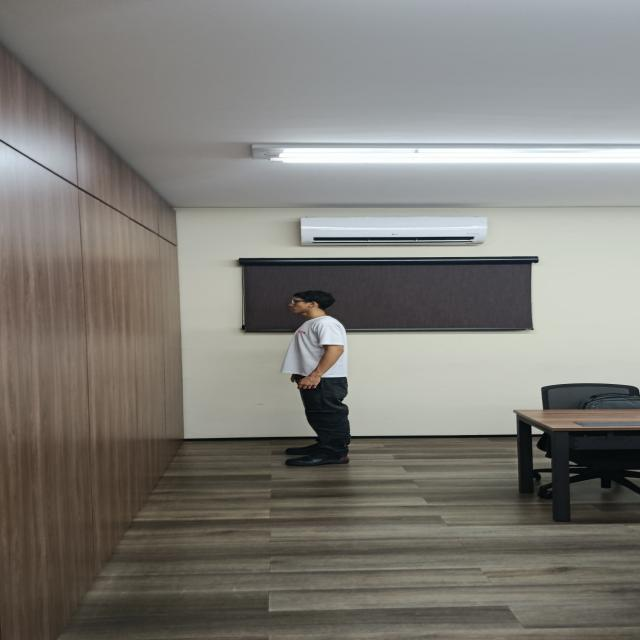sem_oculos: (292, 300, 304, 304)
